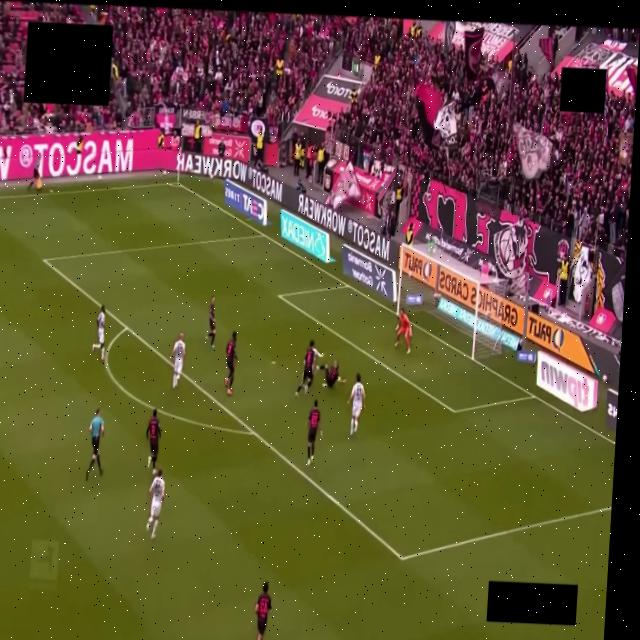player: (146, 469, 164, 538), (296, 340, 317, 396), (348, 374, 365, 436), (307, 399, 322, 465), (255, 581, 271, 639), (146, 408, 160, 473), (170, 333, 185, 388), (318, 361, 345, 388), (395, 309, 411, 354), (225, 331, 236, 395), (92, 305, 104, 360), (207, 297, 215, 347), (312, 345, 323, 357)
referee: (85, 409, 103, 480)
